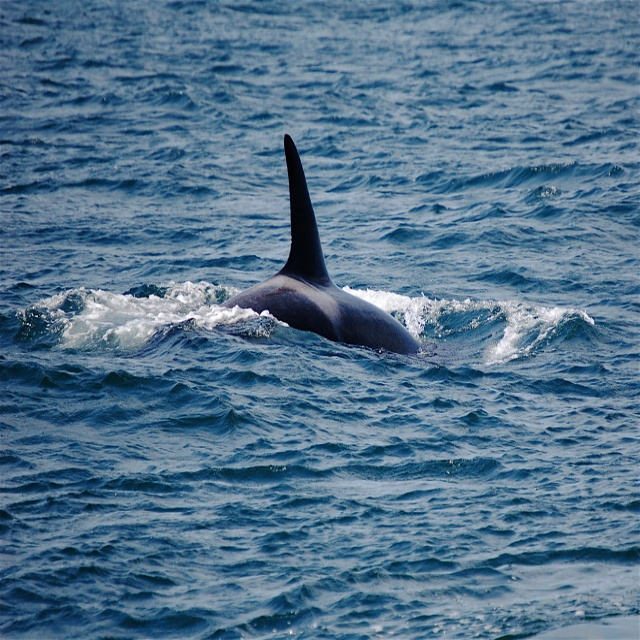Whale: (218, 134, 422, 354)
